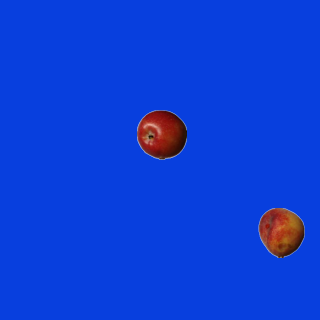Apple Braeburn: (136, 109, 186, 159)
Peach: (256, 207, 306, 257)
